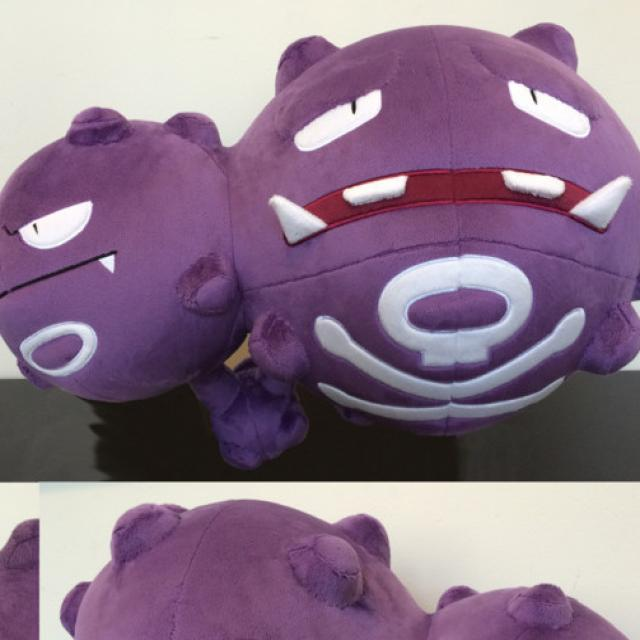Weezing: (0, 0, 640, 470)
